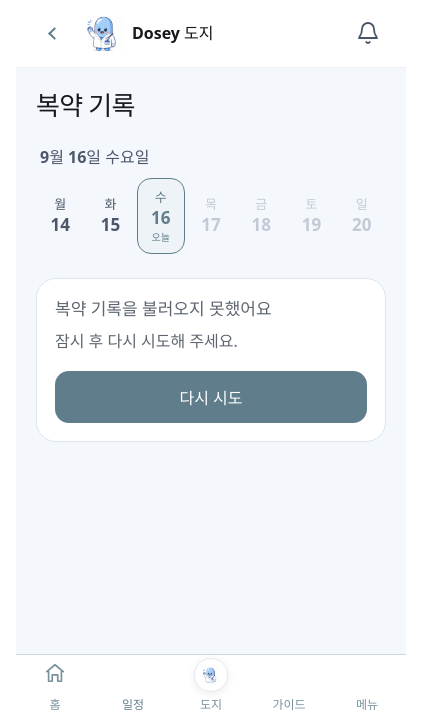
Scenario: RECORD-01 복약 기록 › 조회 실패 시 재시도할 수 있다
Expected: the heading "복약 기록을 불러오지 못했어요" is shown, [55,297,272,320]
Step 1. Click the button "다시 시도" → (211, 397), box [55,371,367,423]
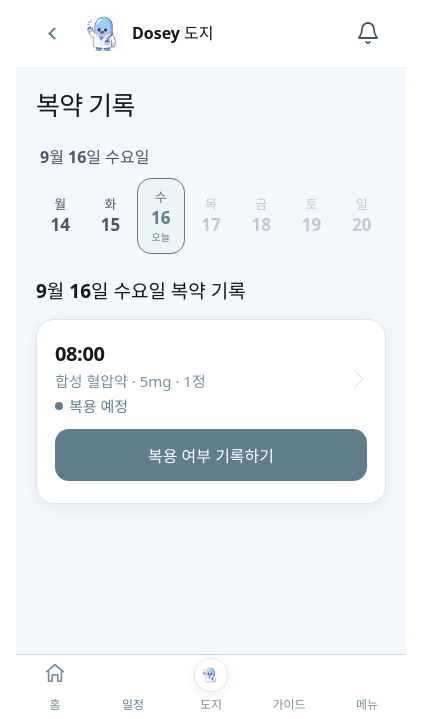
Result: the button "복용 여부 기록하기" is shown at [55,429,367,481]
